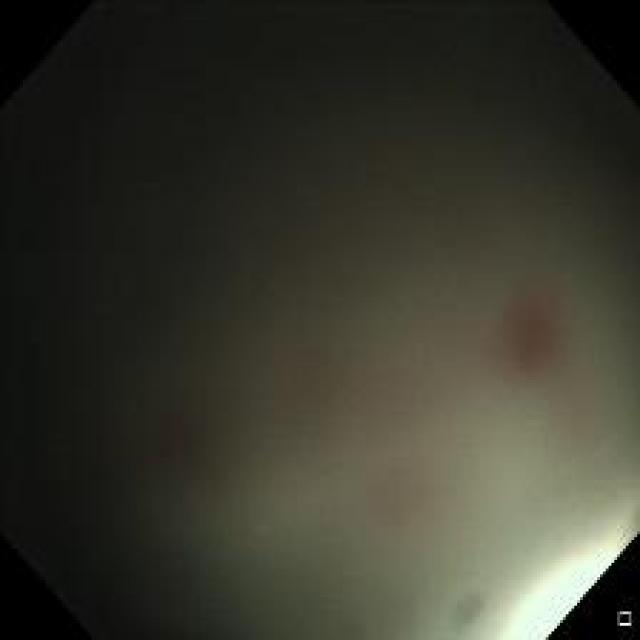color misalignment: (5, 10, 635, 628)
saturation: (470, 481, 612, 625)
